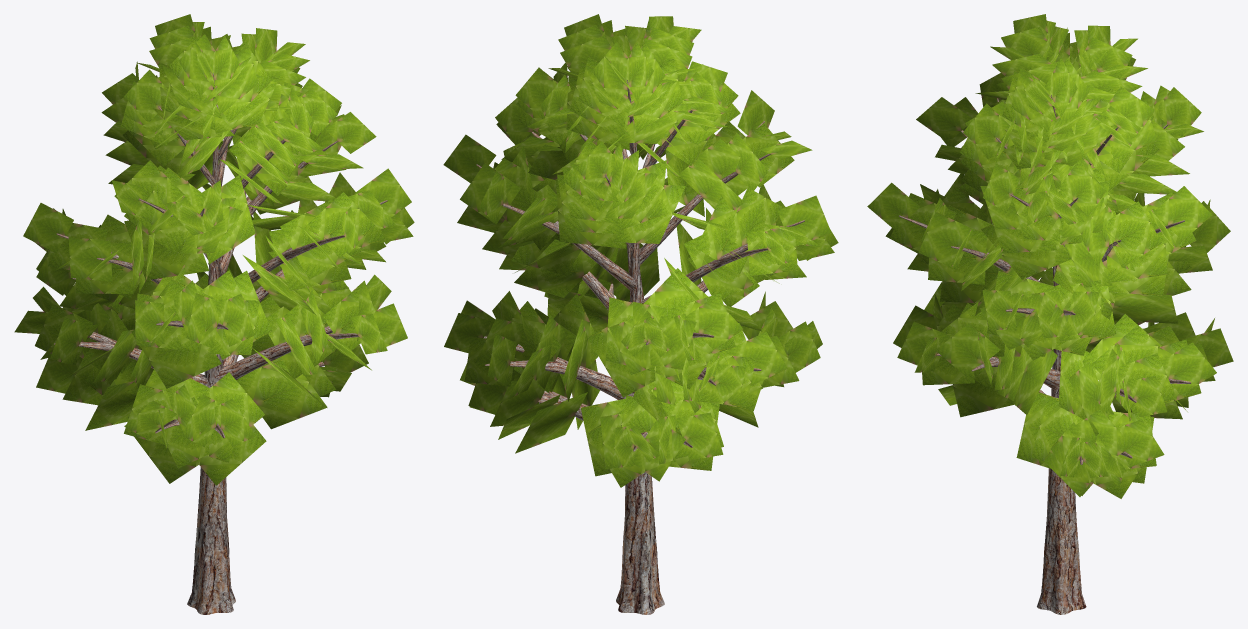
File: myTree_01.fbx
The picture shows the model from 3 angles, left to right: view 1: azimuth 30°, elevation 25°; view 2: azimuth 150°, elevation 25°; view 3: azimuth 270°, elevation 25°; orthographic projection.
Parts seen in each view (by area): view 1: Tree_1, Tree_0; view 2: Tree_1, Tree_0; view 3: Tree_1, Tree_0.
Boxes of the visible parts, x1,y1,x2,y2 form: Tree_1: (14, 14, 414, 485); Tree_0: (54, 73, 387, 614); Tree_1: (443, 14, 838, 487); Tree_0: (476, 80, 804, 614); Tree_1: (867, 14, 1233, 498); Tree_0: (899, 72, 1190, 614).
Bounding box in the file's own units: 286 × 456 × 262.
Materials: 2 (2 with a texture image).
